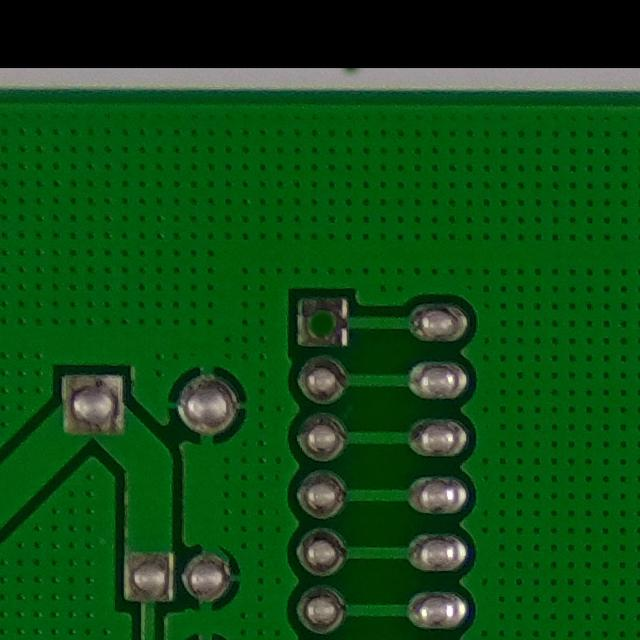missing_hole: (293, 293, 347, 346)
